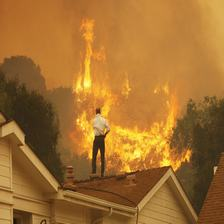fire: (60, 14, 205, 192)
